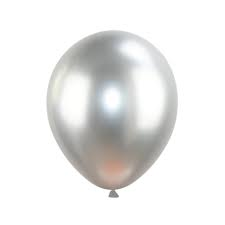Balloon: (47, 30, 178, 189)
